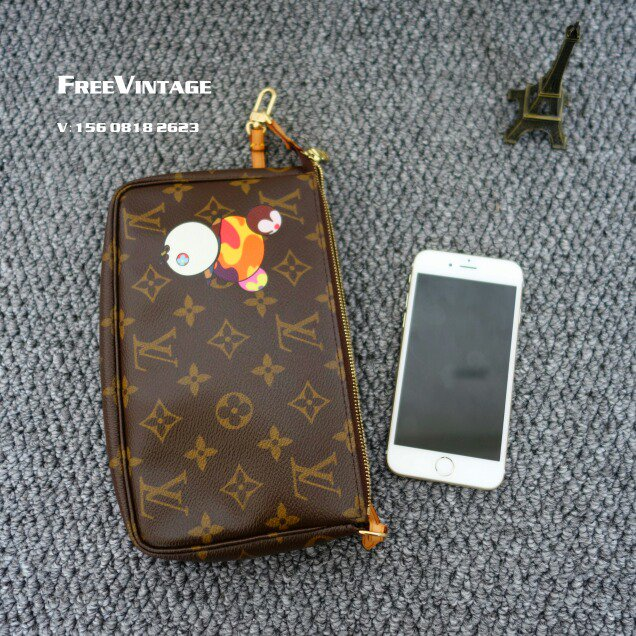LOUIS-VUITTON: (271, 308, 324, 355)
